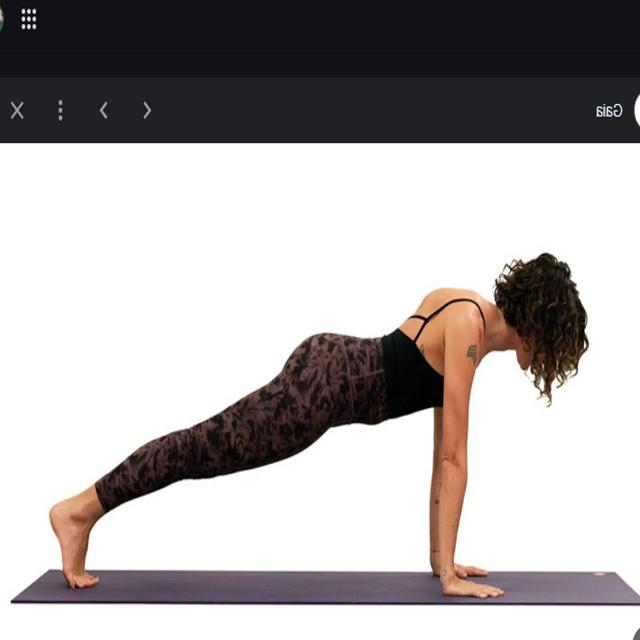Plank_Pose: (42, 249, 597, 606)
